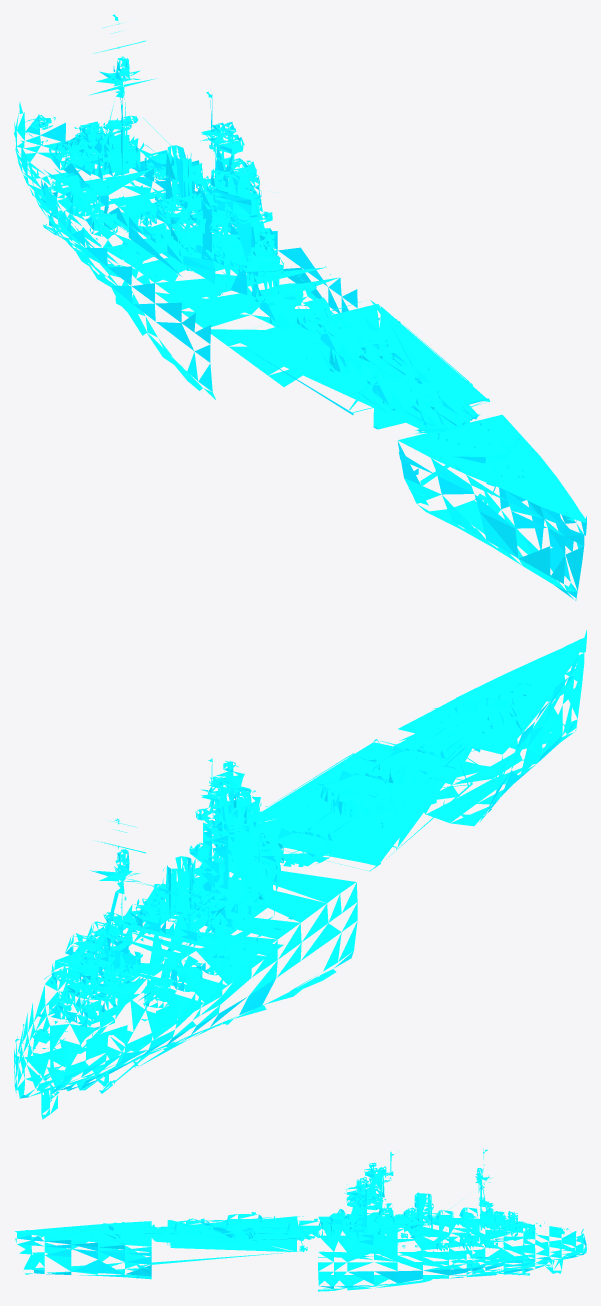
Rendered from Nelson.glb.
3 renders of one model, top to bottom at view 1: azimuth 30°, elevation 25°; view 2: azimuth 150°, elevation 25°; view 3: azimuth 270°, elevation 25°, orthographic. The views are drawn at different scales.
Bounding box in the file's own units: 2.14 × 3.49 × 14.4.
